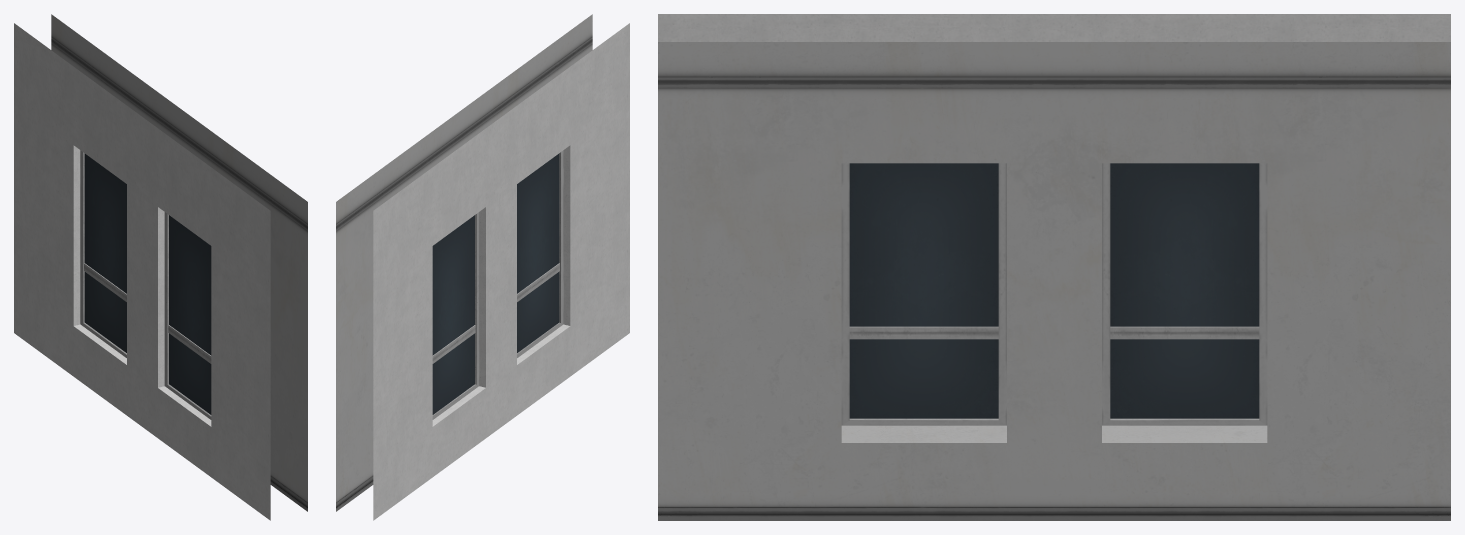
File: MB_Wall_Window_A_06.fbx
3 renders of one model, left to right at view 1: azimuth 30°, elevation 25°; view 2: azimuth 150°, elevation 25°; view 3: azimuth 270°, elevation 25°, orthographic. The views are drawn at different scales.
Parts seen in each view (by area): view 1: MB_Wall_Window_A_06; view 2: MB_Wall_Window_A_06; view 3: MB_Wall_Window_A_06.
Boxes of the visible parts, bbox=[...] form: MB_Wall_Window_A_06: bbox=[14, 14, 307, 520]; MB_Wall_Window_A_06: bbox=[336, 14, 629, 520]; MB_Wall_Window_A_06: bbox=[658, 14, 1450, 520].
Size of the model in its own units: 50 by 400 by 600.
